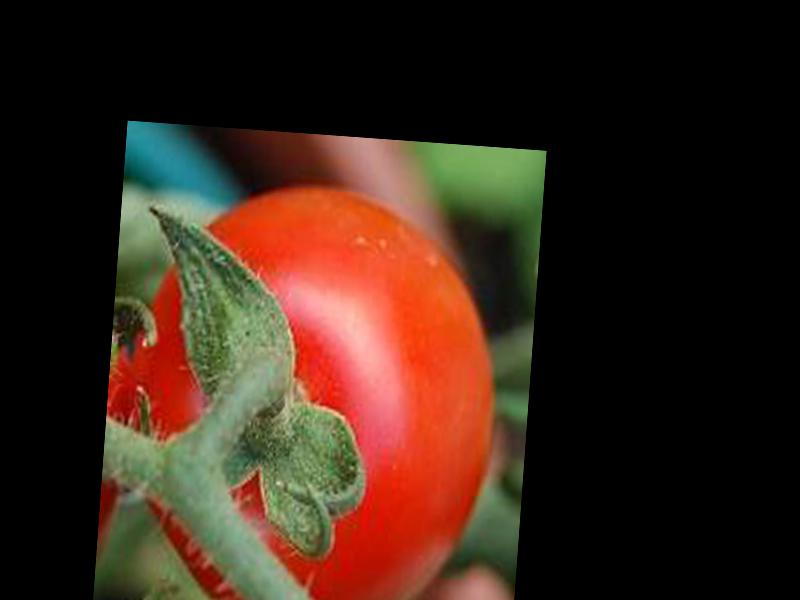Tomato: (101, 173, 507, 600)
